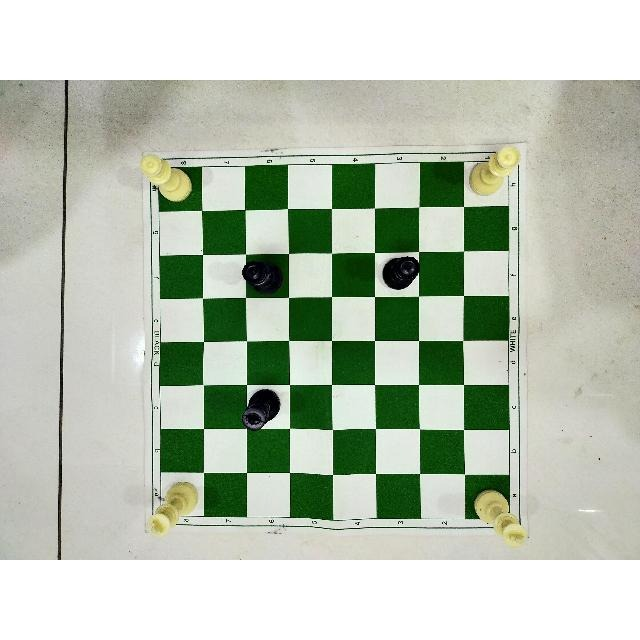black-king: (240, 387, 282, 433)
black-queen: (240, 260, 285, 296), (380, 255, 422, 291)
white-king: (472, 487, 528, 549), (146, 480, 200, 539)
white-queen: (138, 152, 194, 204), (468, 144, 522, 197)
